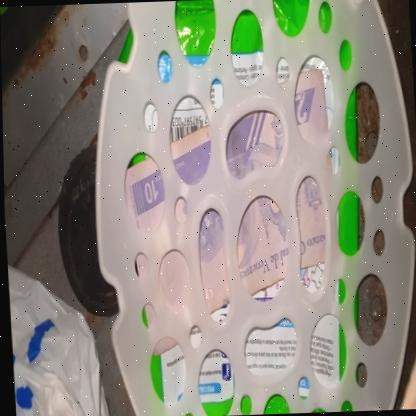ten-back-vef: (106, 68, 344, 358)
